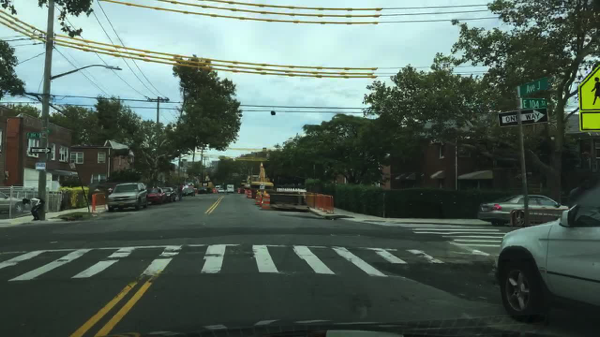car: (496, 180, 599, 322), (477, 194, 570, 227), (106, 184, 147, 212), (147, 187, 164, 205), (162, 188, 177, 203), (174, 187, 183, 200), (184, 187, 195, 197), (199, 189, 212, 195), (219, 189, 226, 193), (214, 186, 219, 190)
person: (21, 198, 44, 220)
traffic sign: (499, 108, 548, 126), (579, 66, 599, 110), (515, 76, 550, 97), (579, 111, 599, 133), (522, 99, 548, 109), (31, 145, 52, 154), (26, 131, 42, 140), (34, 162, 46, 170)
truck: (243, 174, 272, 191), (227, 184, 234, 194)
